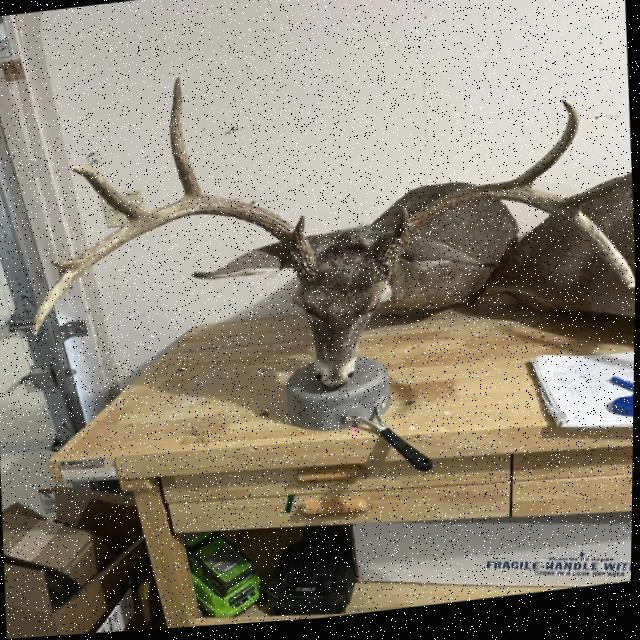L-F: (373, 190, 636, 298)
L-G1: (395, 213, 409, 241)
L-G2: (511, 107, 580, 193)
L-G3: (566, 181, 633, 219)
R-F: (32, 198, 321, 337)
R-G1: (295, 218, 306, 242)
R-G2: (169, 77, 210, 201)
R-G3: (70, 164, 149, 224)
R-G4: (51, 258, 78, 271)
